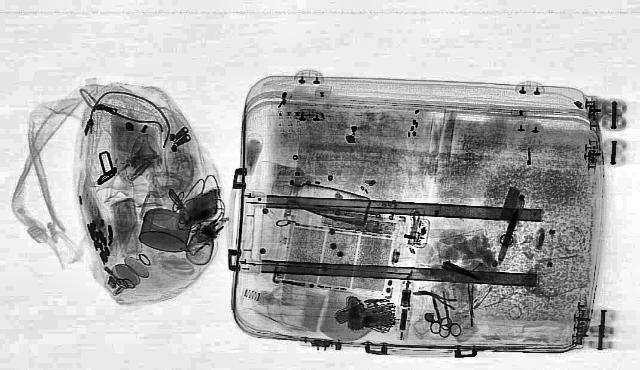Scissors: (432, 290, 461, 338), (422, 296, 454, 334)
